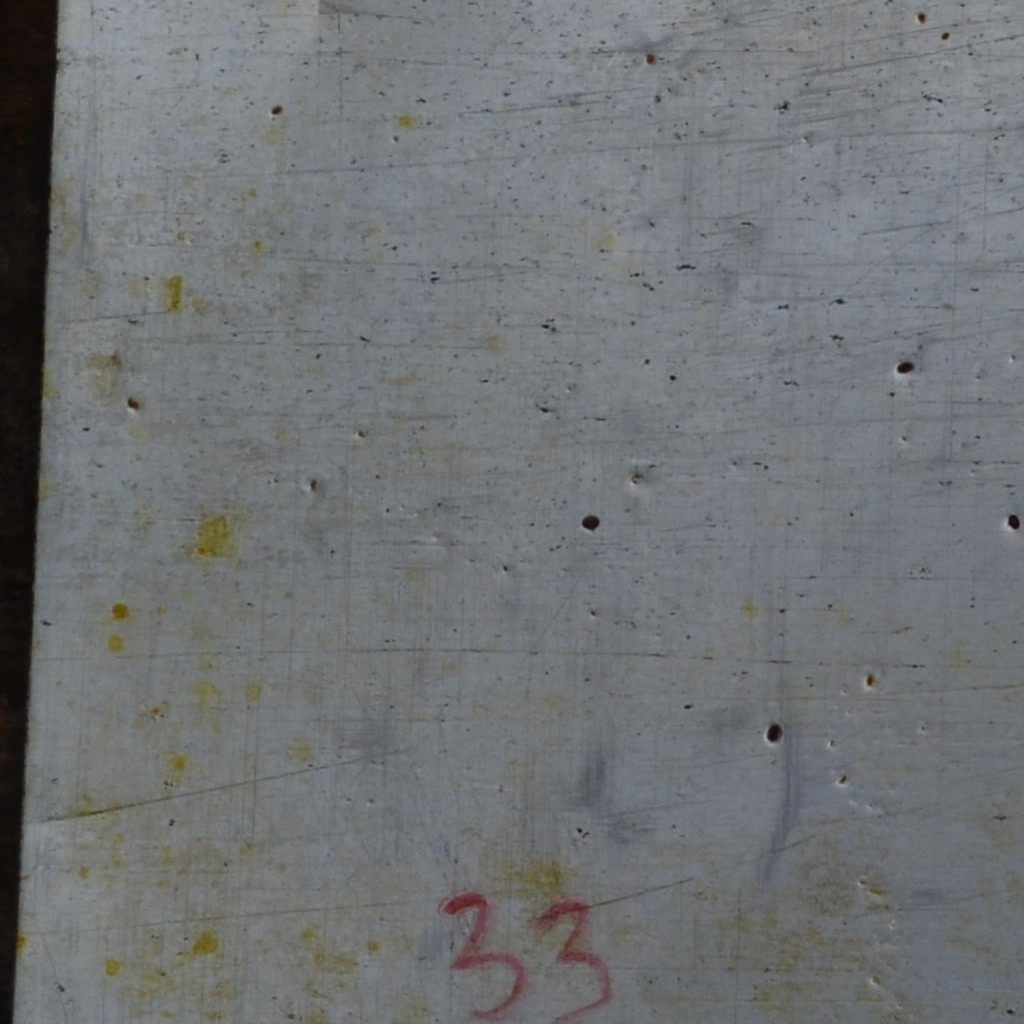varroa: (764, 721, 784, 749), (578, 513, 602, 536), (1005, 508, 1023, 534), (894, 357, 916, 374)
